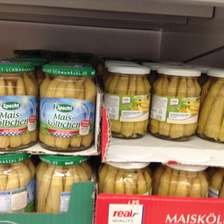corn: (37, 63, 96, 152), (150, 67, 203, 142), (104, 65, 152, 138), (34, 156, 92, 213), (1, 62, 37, 149), (151, 163, 211, 198), (98, 159, 153, 195), (1, 155, 34, 212)
